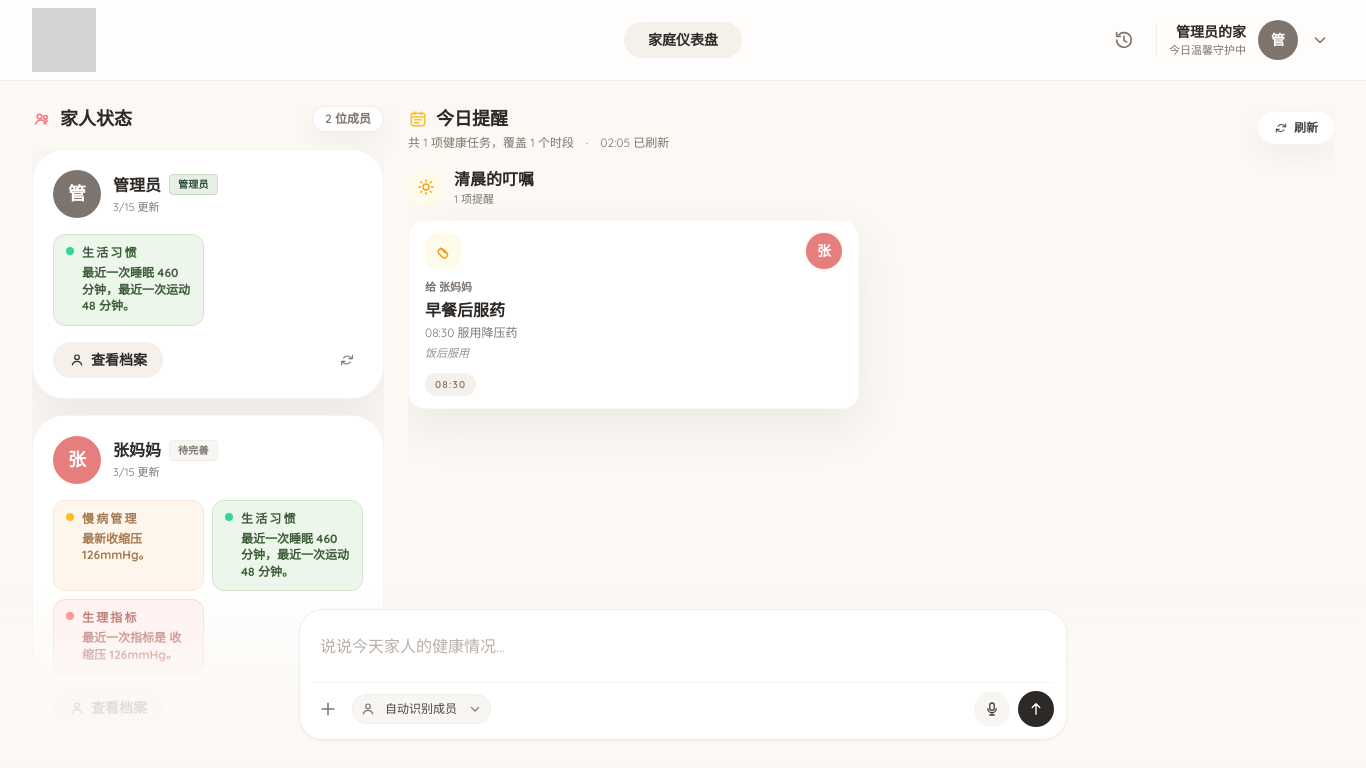
Test: App › shows backend tool errors from chat streams instead of a generic network failure
Click the button named "发送文本": (1036, 709) [1018, 691, 1054, 727]
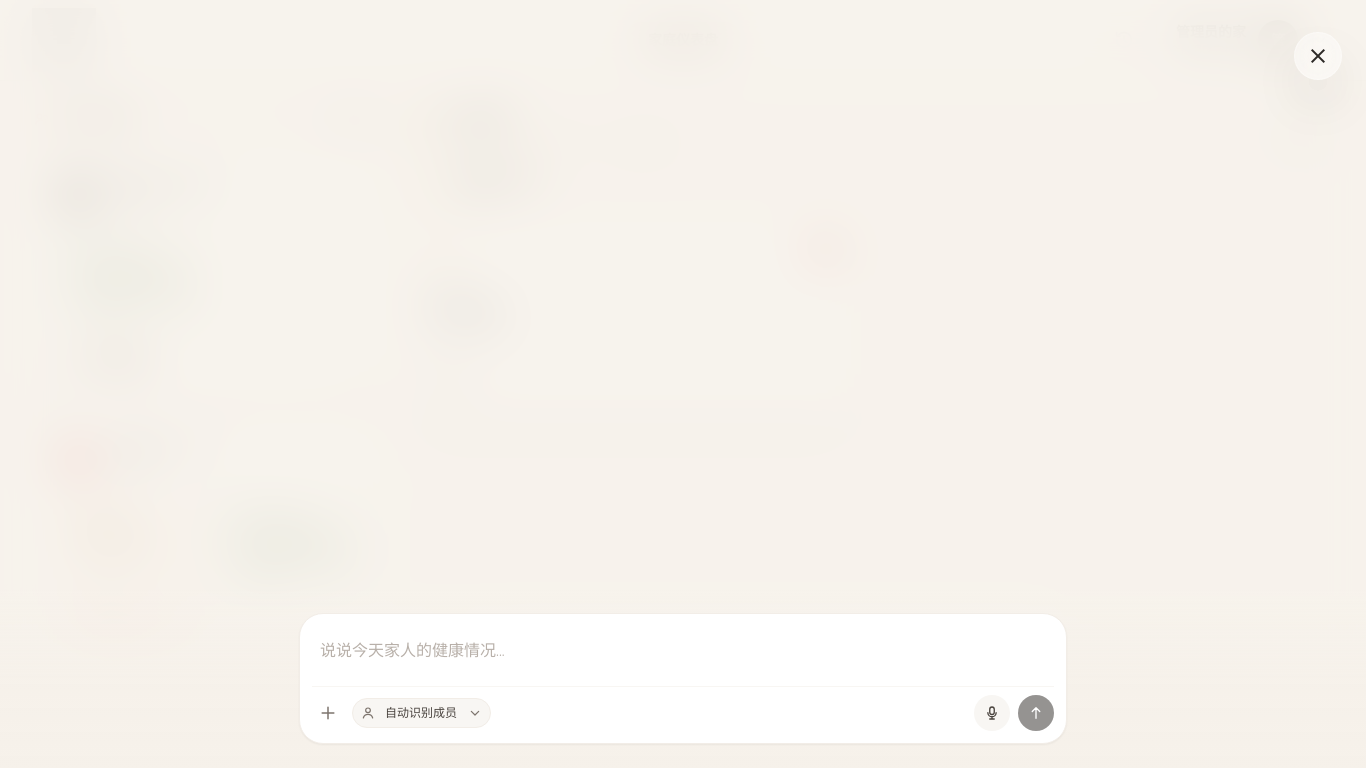
In the text box named "对话输入框": (683, 650) [320, 630, 1046, 670], type "帮我记录这次急性胃炎"
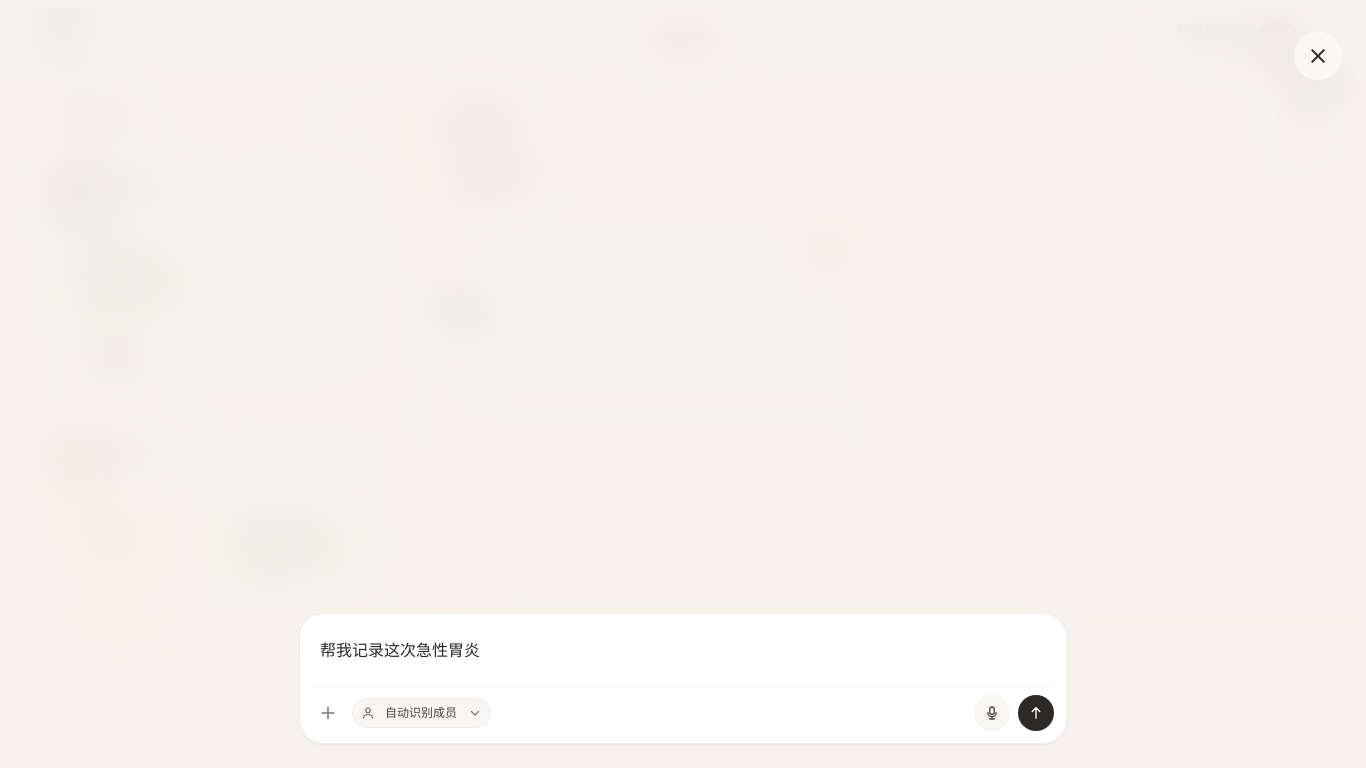
Click the button named "发送": (1036, 713) [1018, 695, 1054, 731]
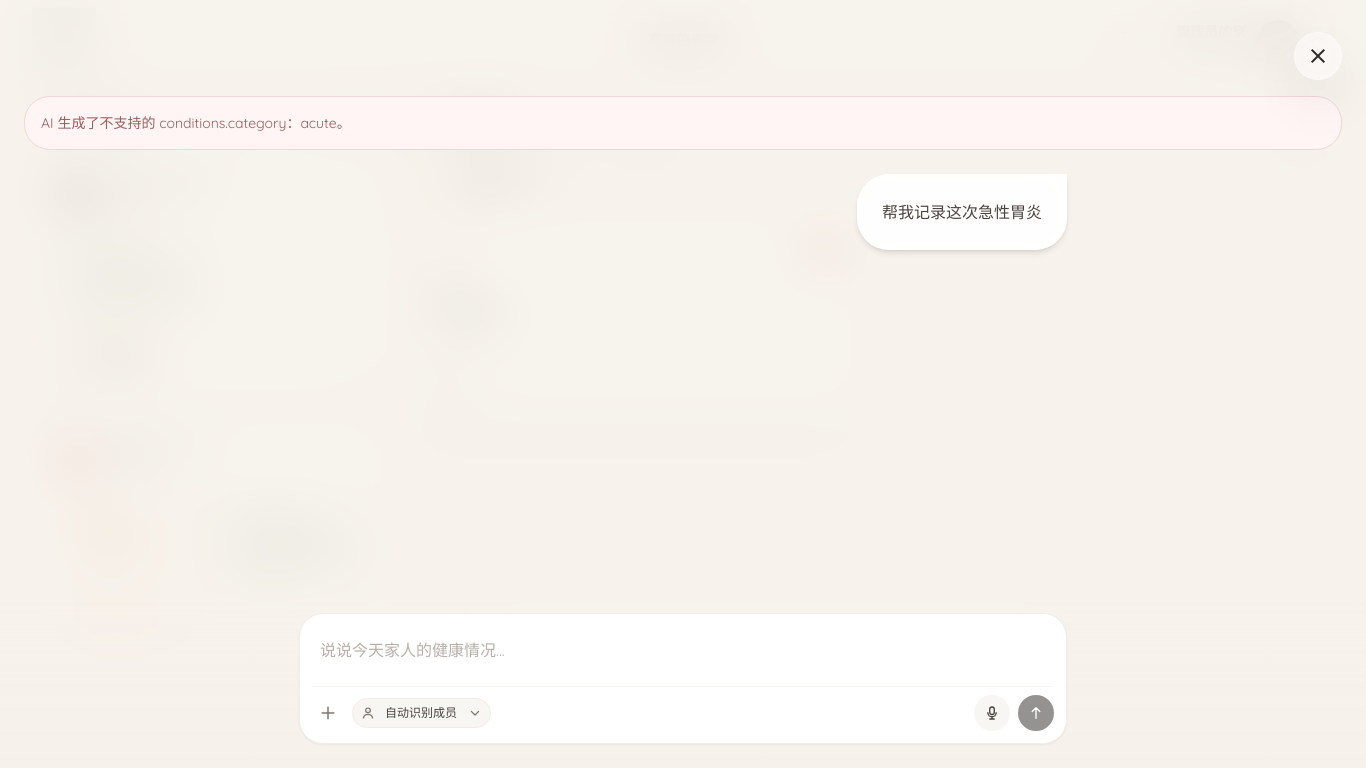
Check: the text "AI 生成了不支持的 conditions.category：acute。" is shown, box [24, 96, 1342, 150]
